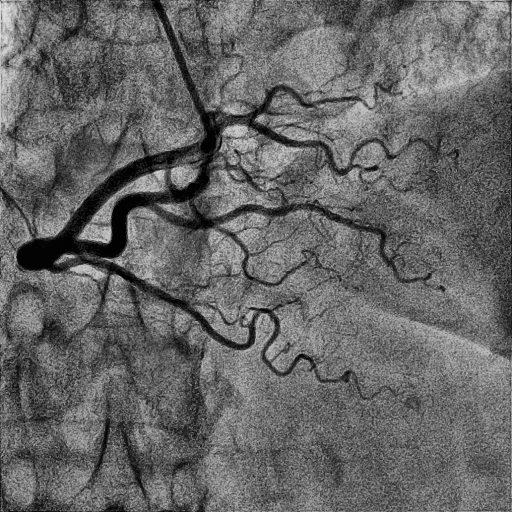pborca: (147, 114, 410, 205)
pda: (149, 202, 395, 267)
rca: (16, 139, 205, 270)
